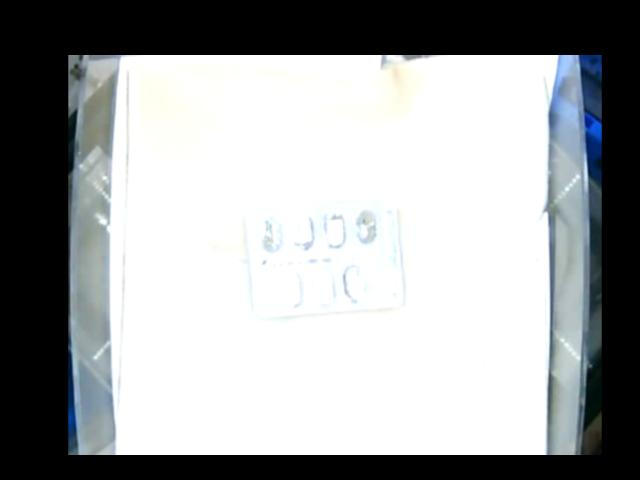Medicine: (245, 200, 404, 317)
